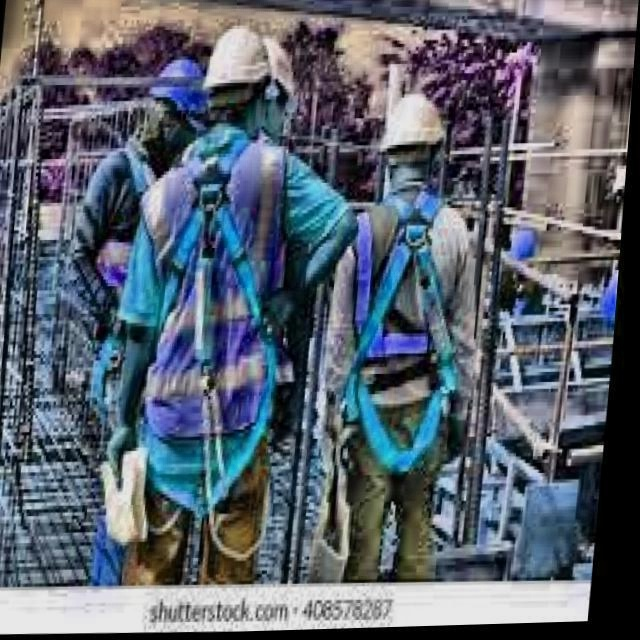safety belt: (121, 161, 286, 529), (338, 198, 485, 474), (69, 134, 232, 376)
